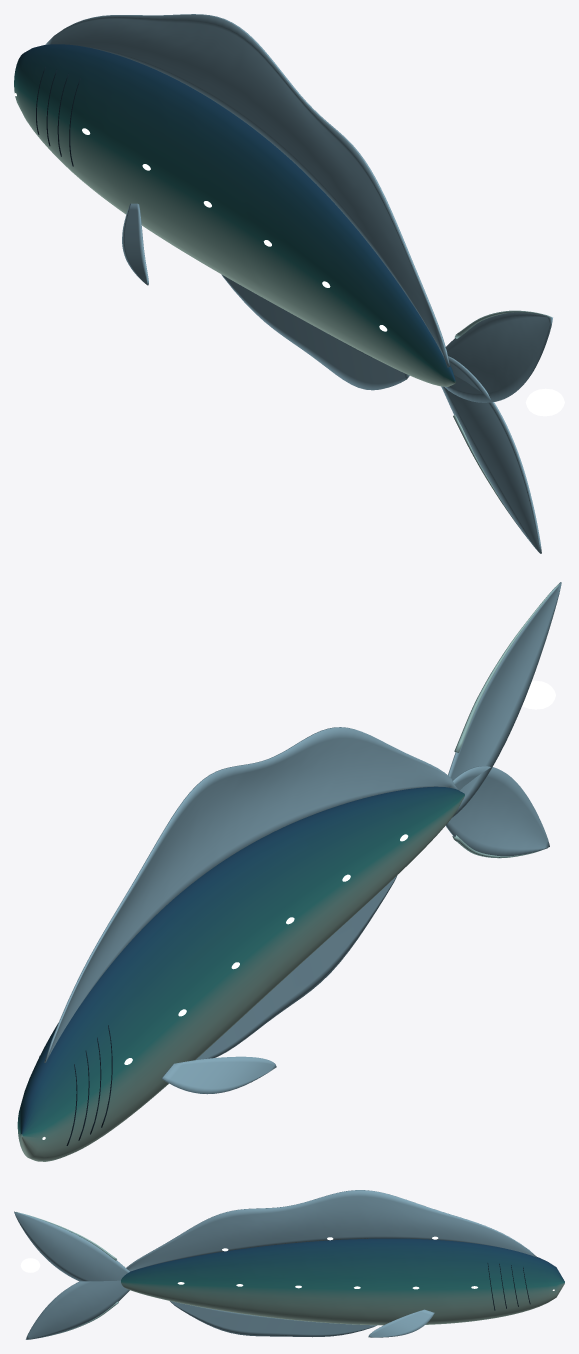
3 views of the same model, one above another, from view 1: azimuth 30°, elevation 25°; view 2: azimuth 150°, elevation 25°; view 3: azimuth 270°, elevation 25° (orthographic). The views are drawn at different scales.
Visible parts, largest first — view 1: RIMWARD_HULL, RIMWARD_ENGINE_GLOW; view 2: RIMWARD_HULL, RIMWARD_ENGINE_GLOW; view 3: RIMWARD_HULL, RIMWARD_ENGINE_GLOW.
Boxes of the visible parts, x1,y1,x2,y2 form: RIMWARD_HULL: (14, 14, 552, 553); RIMWARD_ENGINE_GLOW: (525, 388, 564, 416); RIMWARD_HULL: (17, 582, 561, 1161); RIMWARD_ENGINE_GLOW: (522, 680, 555, 709); RIMWARD_HULL: (14, 1190, 564, 1339); RIMWARD_ENGINE_GLOW: (20, 1258, 40, 1272).
Bounding box in the file's own units: 1.29 × 2.39 × 7.8.
